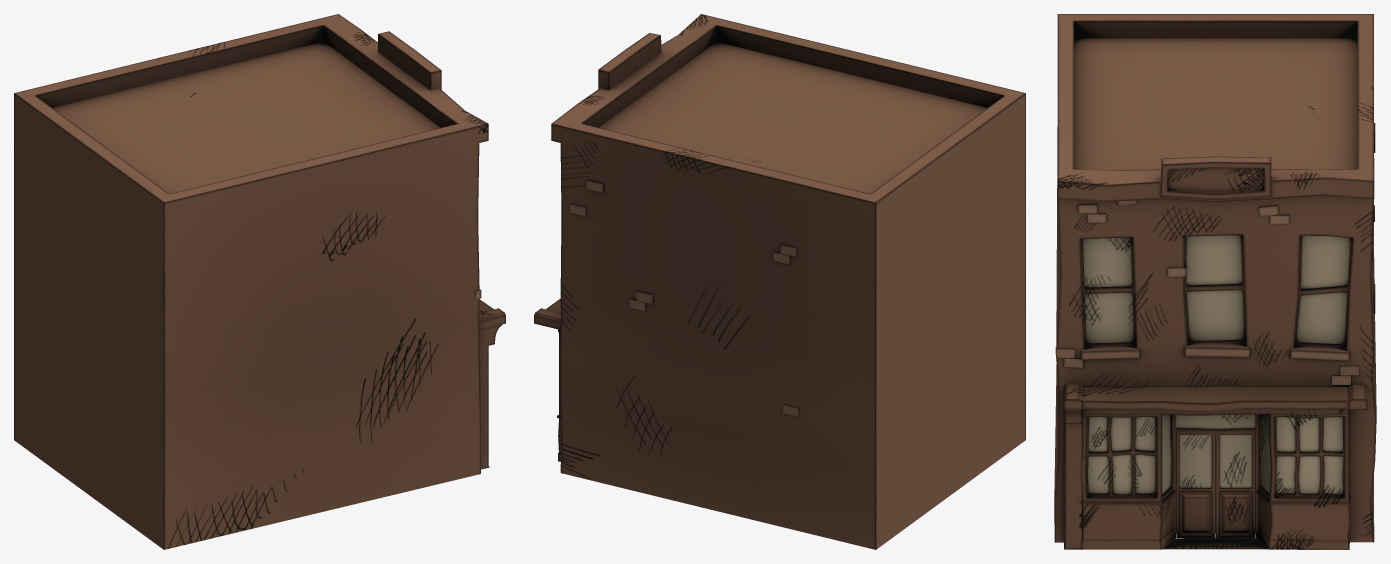
Rendered from BuildingSingle_01.fbx.
3 views of the same model, side by side, from view 1: azimuth 30°, elevation 25°; view 2: azimuth 150°, elevation 25°; view 3: azimuth 270°, elevation 25° (orthographic). The views are drawn at different scales.
Visible parts, largest first — view 1: Building_01; view 2: Building_01; view 3: Building_01.
Boxes of the visible parts, x1,y1,x2,y2 form: Building_01: (14, 14, 505, 549); Building_01: (534, 14, 1025, 549); Building_01: (1054, 14, 1376, 549).
Size of the model in its own units: 657 by 665 by 503.
